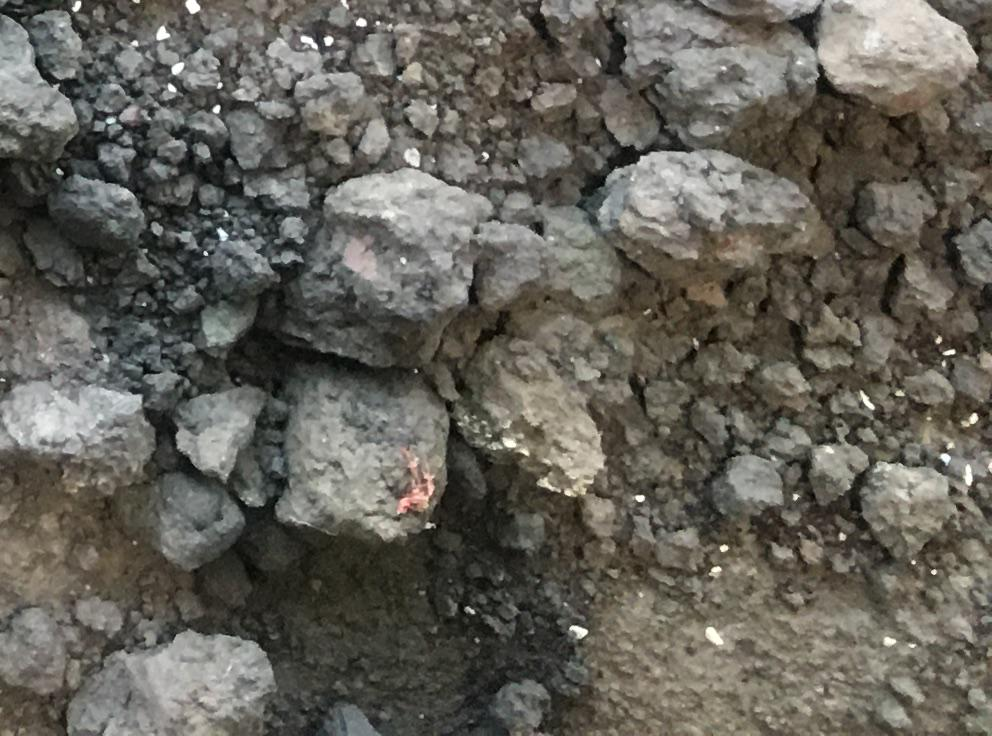block: (285, 172, 471, 375), (590, 144, 832, 288), (615, 1, 823, 150), (279, 357, 440, 543), (460, 336, 604, 506), (806, 1, 982, 122), (62, 638, 269, 736), (1, 385, 153, 500), (103, 465, 245, 575)
